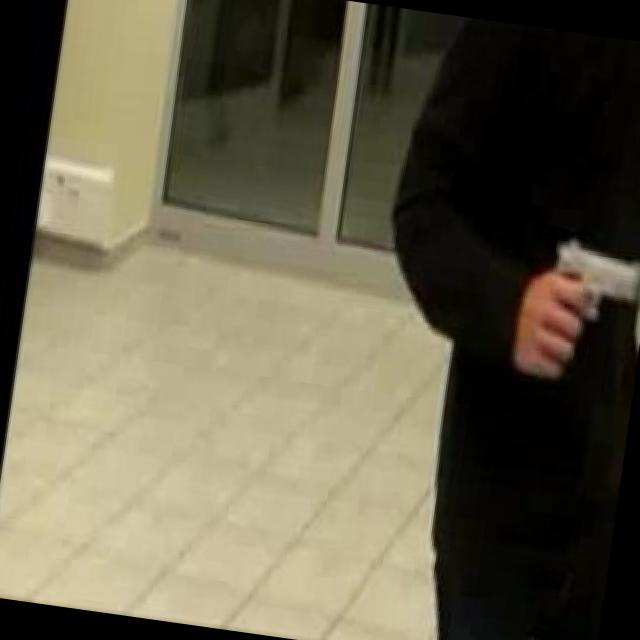Guns: (525, 217, 640, 344)
